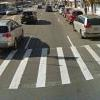Crosswalk: (12, 47, 100, 99)
